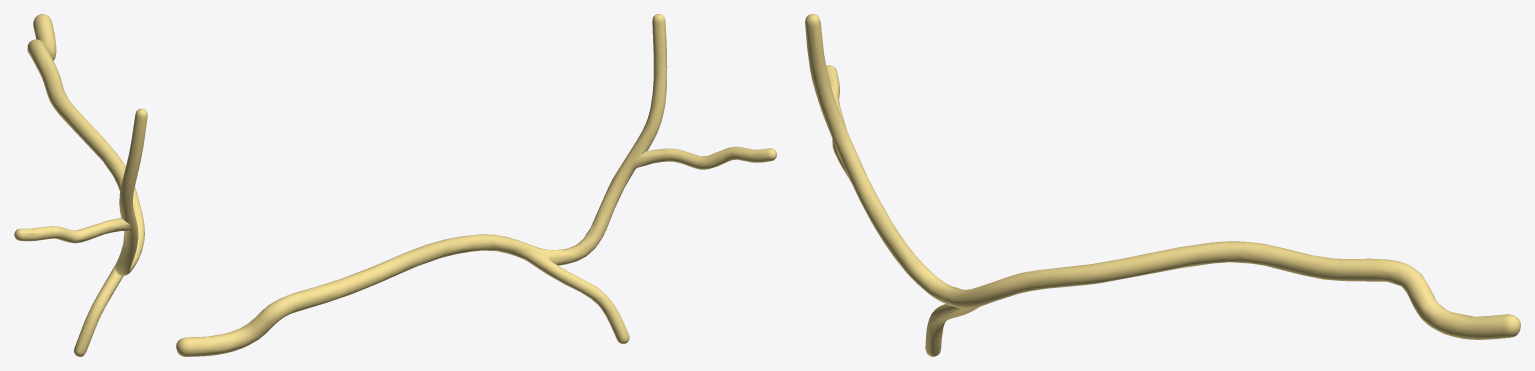
Rendered from fma52644_fj1326.glb.
3 views of the same model, side by side, from view 1: azimuth 30°, elevation 25°; view 2: azimuth 150°, elevation 25°; view 3: azimuth 270°, elevation 25° (orthographic). The views are drawn at different scales.
Visible parts, largest first — view 1: FMA52644_FJ1326; view 2: FMA52644_FJ1326; view 3: FMA52644_FJ1326.
Boxes of the visible parts, x1=… form: FMA52644_FJ1326: x1=14, y1=14, x2=147, y2=356; FMA52644_FJ1326: x1=176, y1=14, x2=776, y2=356; FMA52644_FJ1326: x1=805, y1=14, x2=1520, y2=356.
Bounding box in the file's own units: 0.0232 × 0.0202 × 0.0374.
